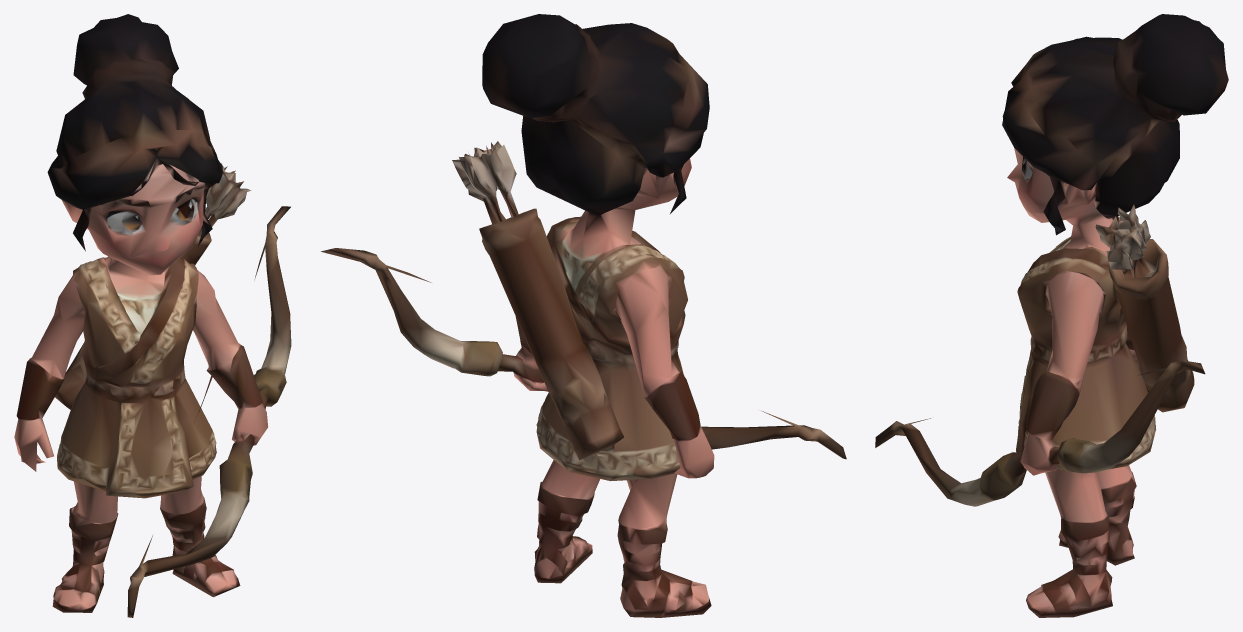
The model's file is lucistnik_f_lo.glb.
3 renders of one model, left to right at view 1: azimuth 30°, elevation 25°; view 2: azimuth 150°, elevation 25°; view 3: azimuth 270°, elevation 25°, orthographic. The views are drawn at different scales.
Bounding box in the file's own units: 1.18 × 1.9 × 1.07.
